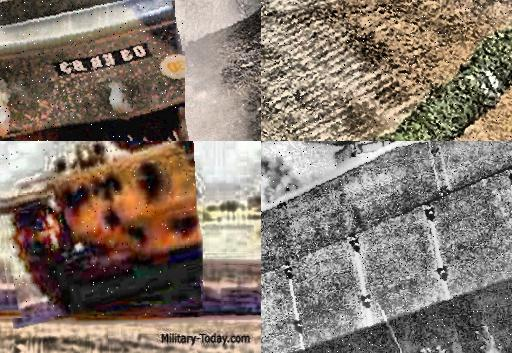tanks: (262, 142, 512, 353), (3, 142, 204, 317), (1, 1, 185, 142), (371, 28, 512, 142)
